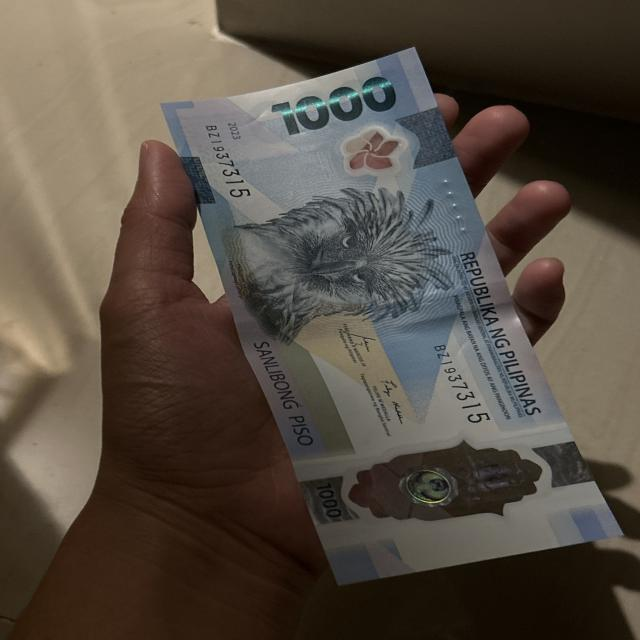clear_window: (322, 439, 589, 527)
eagle: (225, 194, 452, 308)
sampaguita: (340, 132, 417, 175)
serial_number: (421, 336, 495, 429), (206, 120, 257, 206)
